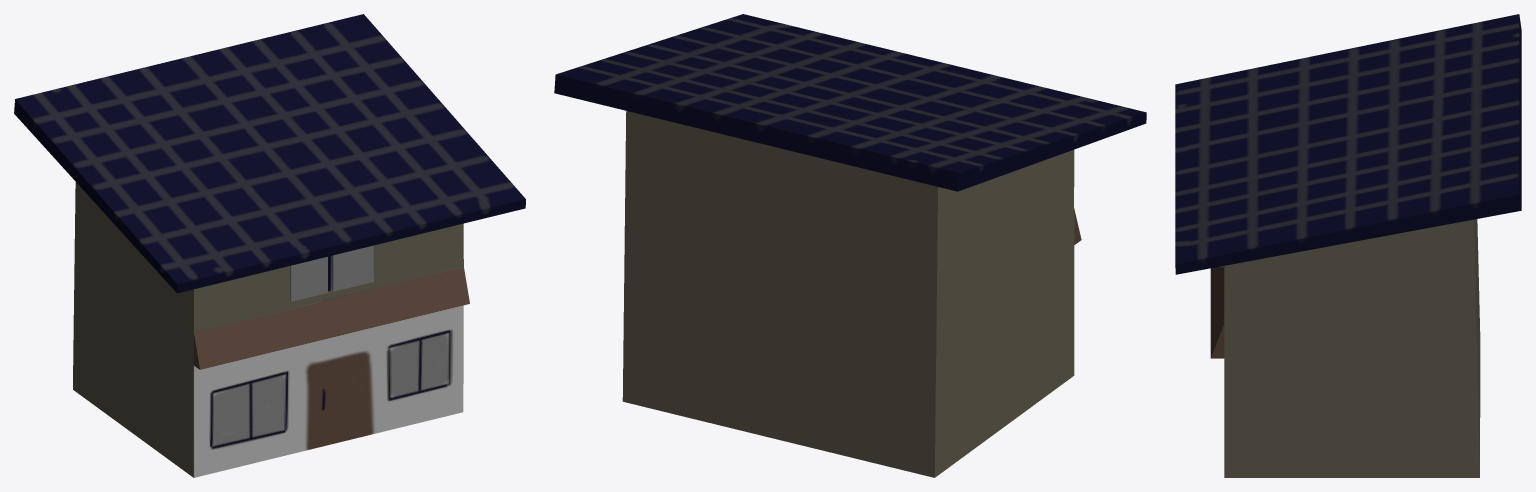
File: House1.fbx
3 renders of one model, left to right at view 1: azimuth 30°, elevation 25°; view 2: azimuth 150°, elevation 25°; view 3: azimuth 270°, elevation 25°, orthographic. The views are drawn at different scales.
Parts seen in each view (by area): view 1: House1_pCube2; view 2: House1_pCube2; view 3: House1_pCube2.
Boxes of the visible parts, x1,y1,x2,y2 form: House1_pCube2: (14, 14, 525, 477); House1_pCube2: (554, 14, 1146, 477); House1_pCube2: (1175, 14, 1521, 477).
Size of the model in its own units: 0.048 by 0.0377 by 0.0389.
1 material, 1 textured.
